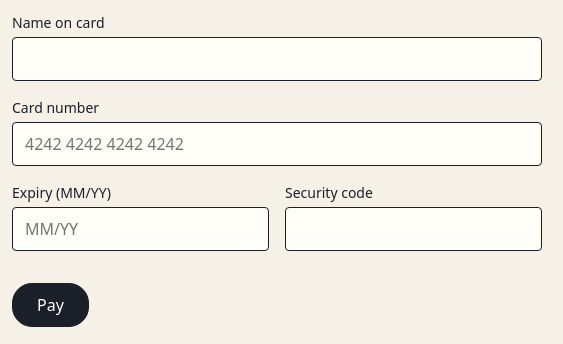
it: CardForm input helpers › formats a pasted card number that has separators
Click the field labelled "Card number" at (277, 144), box [12, 122, 542, 166]
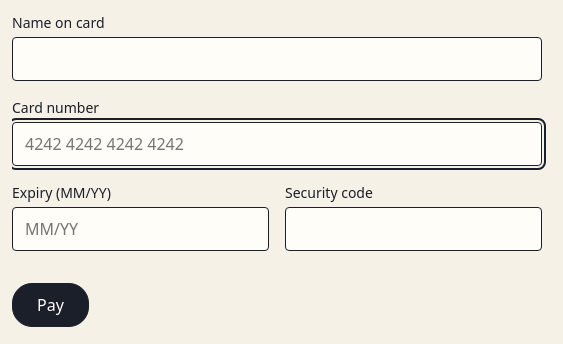
Type keys "4242 - 4242 - 4242 - 4242"
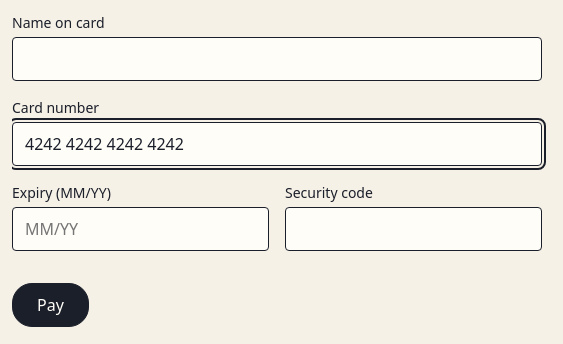
Expected: the field labelled "Card number" holds "4242 4242 4242 4242", [12, 122, 542, 166]
